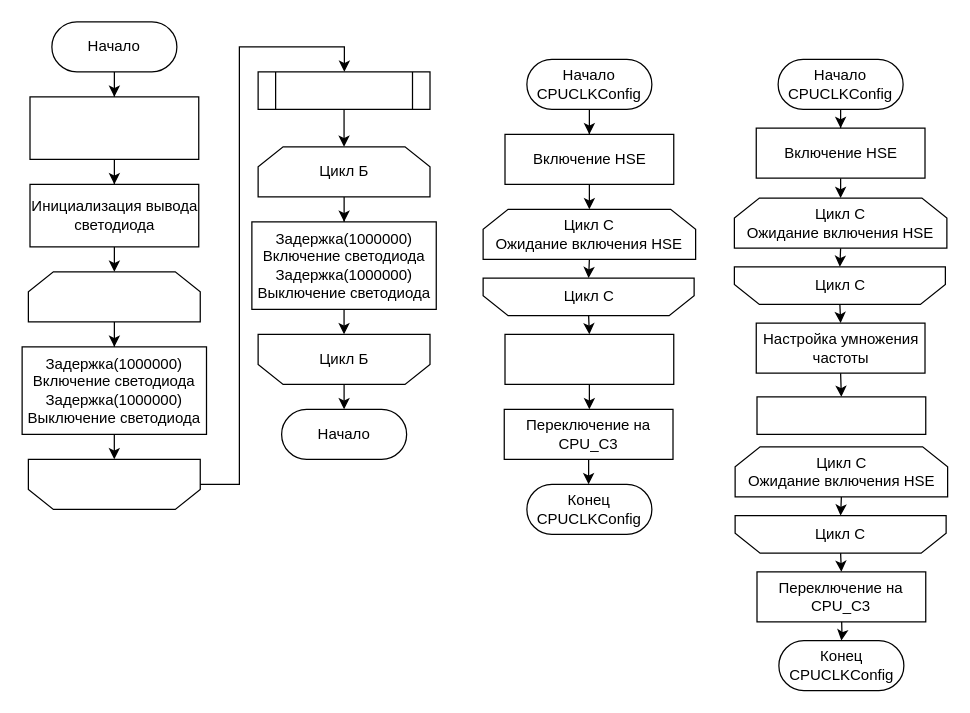
The diagram is 970 pixels wide and 713 high, and some of its shapes have lost their labels. The box of each missing label's shape, as (x1, y1, x2, y2) in pixels:
CPUCLKConfig(): (257, 71, 430, 109)
Включение PLL: (756, 396, 926, 434)
Настройка деления частоты: (504, 333, 674, 384)
Разрешение тактирования порта C: (29, 96, 199, 159)
Цикл A: (27, 458, 200, 509)
Цикл А i=0; i<5; i++: (27, 271, 200, 322)
